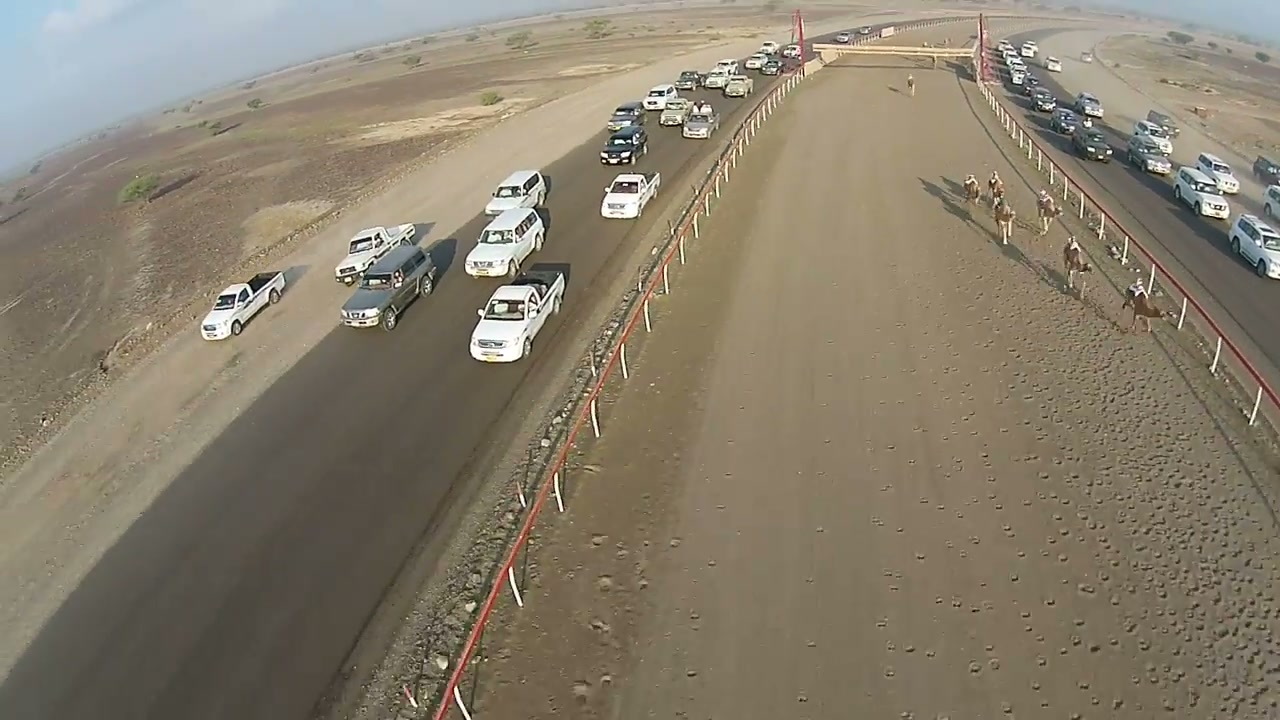animal_footprint: (970, 296, 1271, 718)
